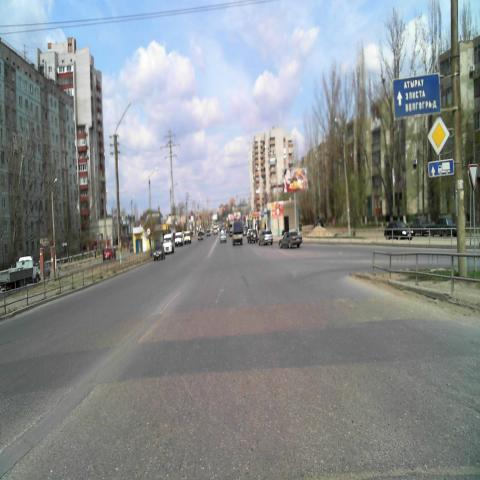6_15_1: (427, 156, 454, 177)
